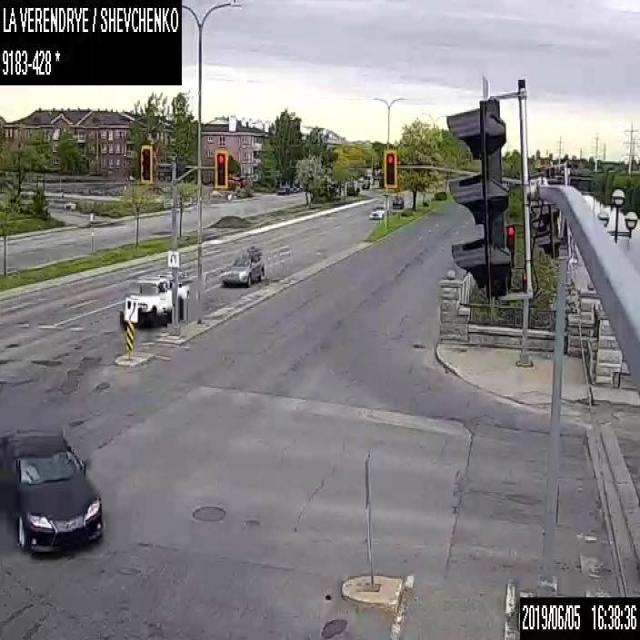vehicle: (0, 424, 102, 553), (119, 272, 188, 328), (220, 244, 264, 286), (368, 204, 384, 219), (391, 197, 403, 208), (276, 184, 290, 193), (361, 179, 369, 188)
